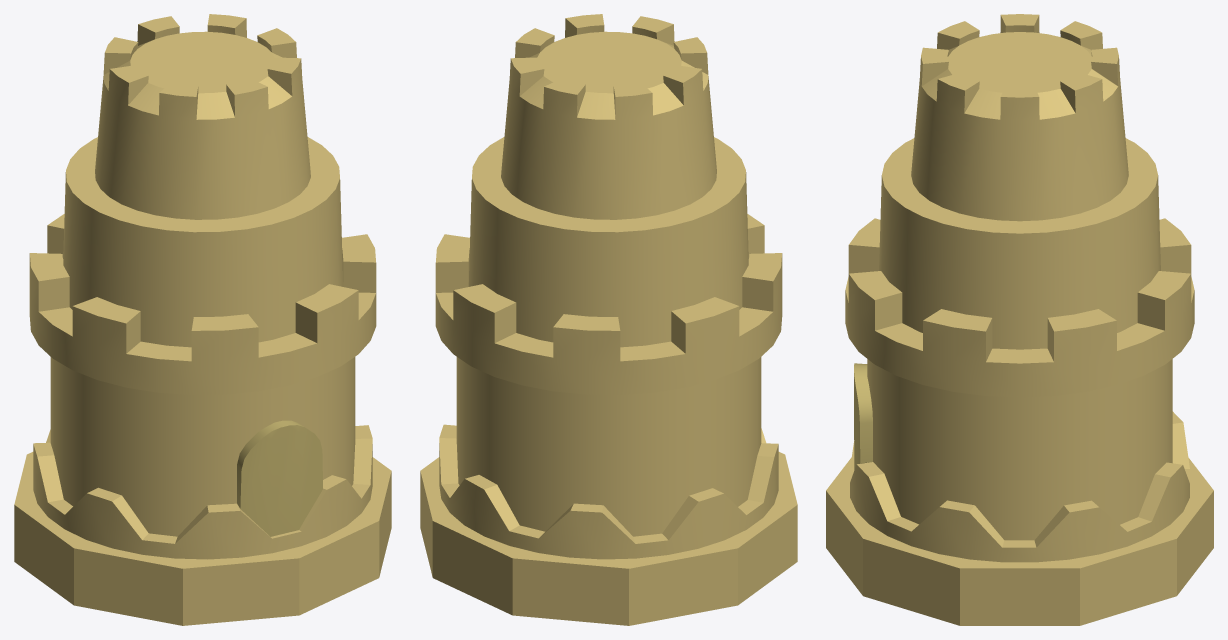
The model's file is SandCastle_1_v2_SSS_LP.fbx.
3 renders of one model, left to right at view 1: azimuth 30°, elevation 25°; view 2: azimuth 150°, elevation 25°; view 3: azimuth 270°, elevation 25°, orthographic.
Visible parts, largest first — view 1: Cylinder.002; view 2: Cylinder.002; view 3: Cylinder.002.
Boxes of the visible parts, <box> form: Cylinder.002: <box>14,14,391,625</box>; Cylinder.002: <box>420,14,797,625</box>; Cylinder.002: <box>826,14,1213,625</box>.
Size of the model in its own units: 1057 by 1556 by 1111.
